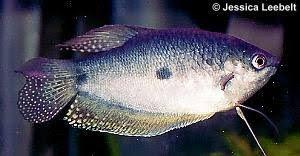Gourami: (15, 25, 281, 156)
